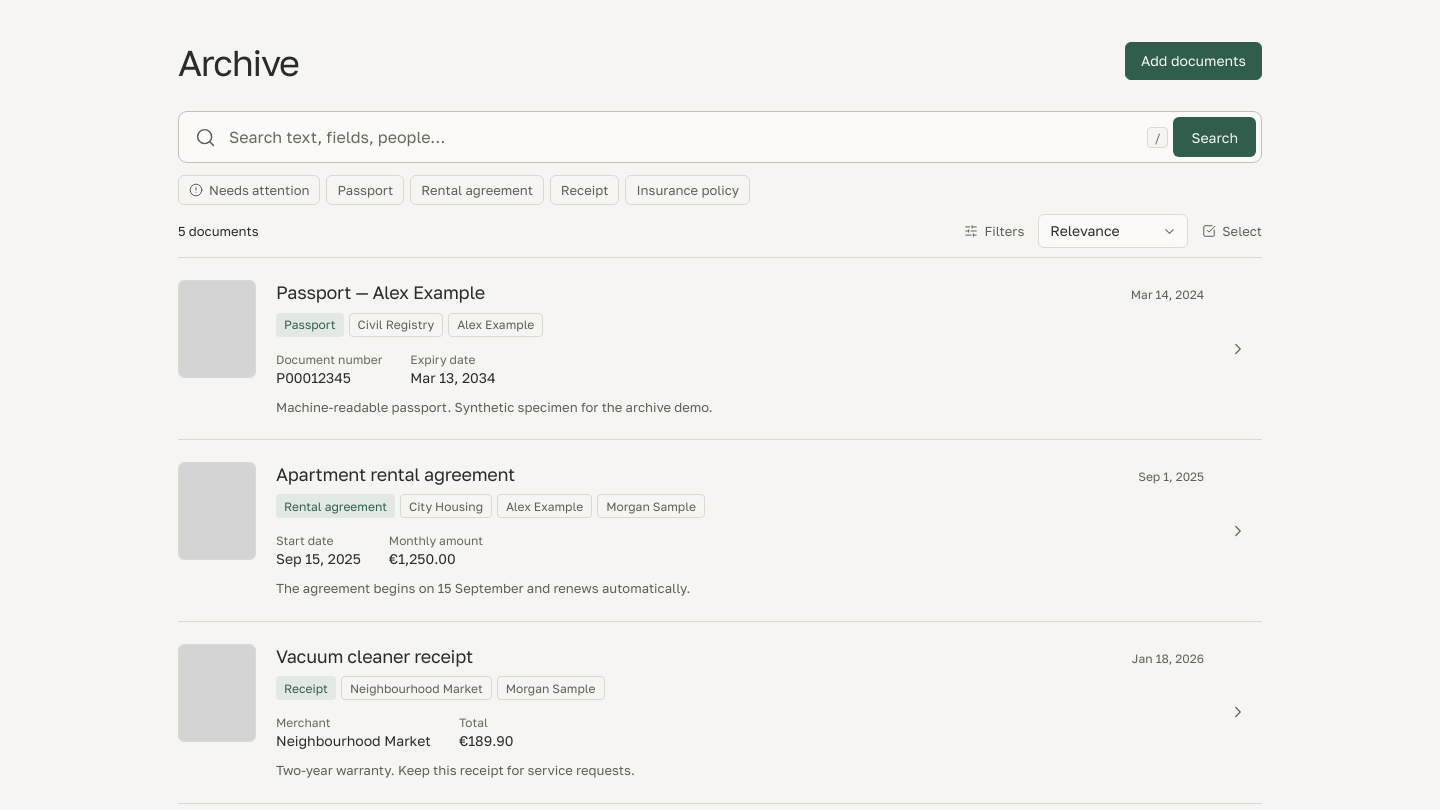
Test: ArchivePage selection › leaves selection mode and hides the toolbar once trashing empties the archive
This screenshot has width=1440, height=810.
Click the button "Select" at (1232, 231), box [1202, 215, 1262, 247]
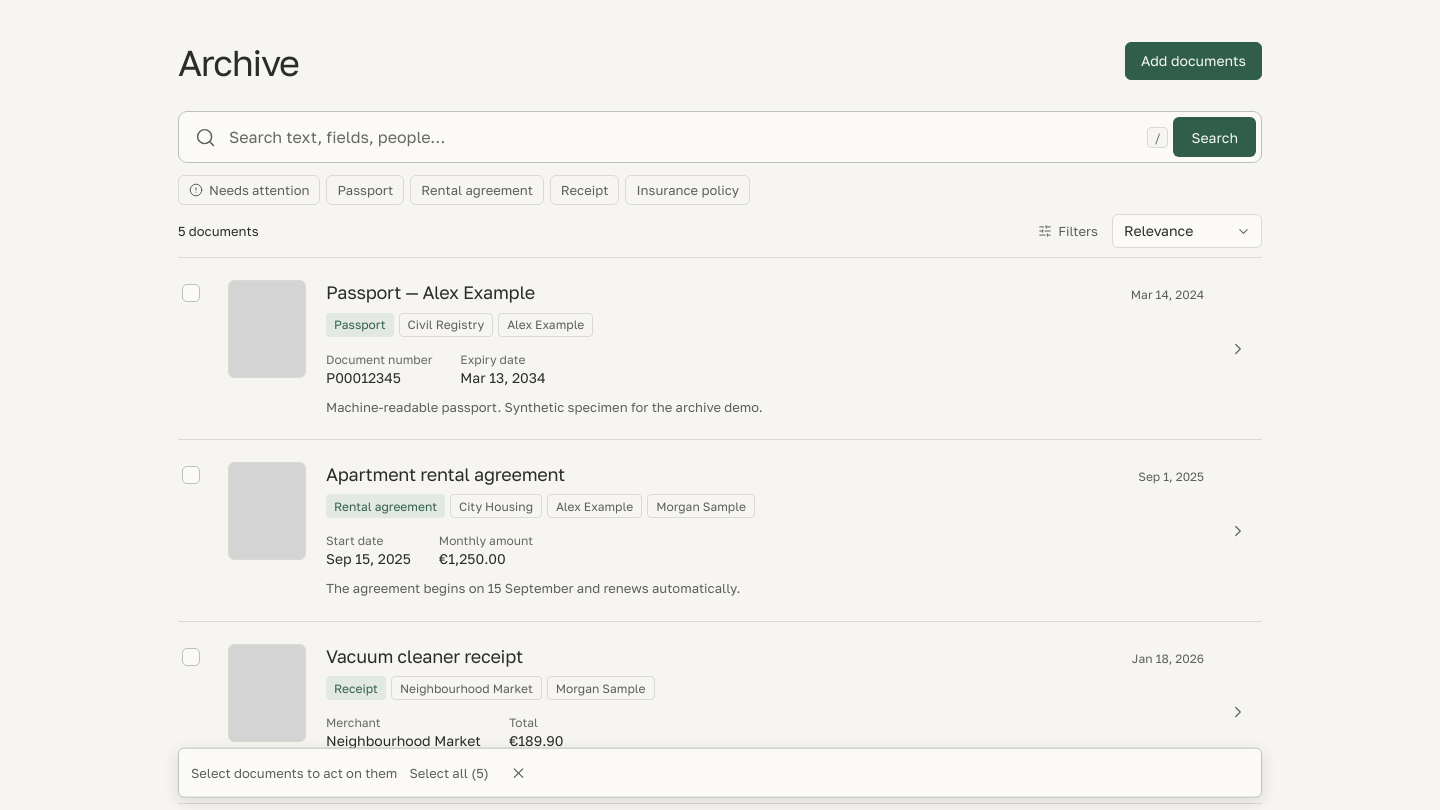
Click the button "Select all (5)" at (449, 773), box [409, 757, 489, 789]
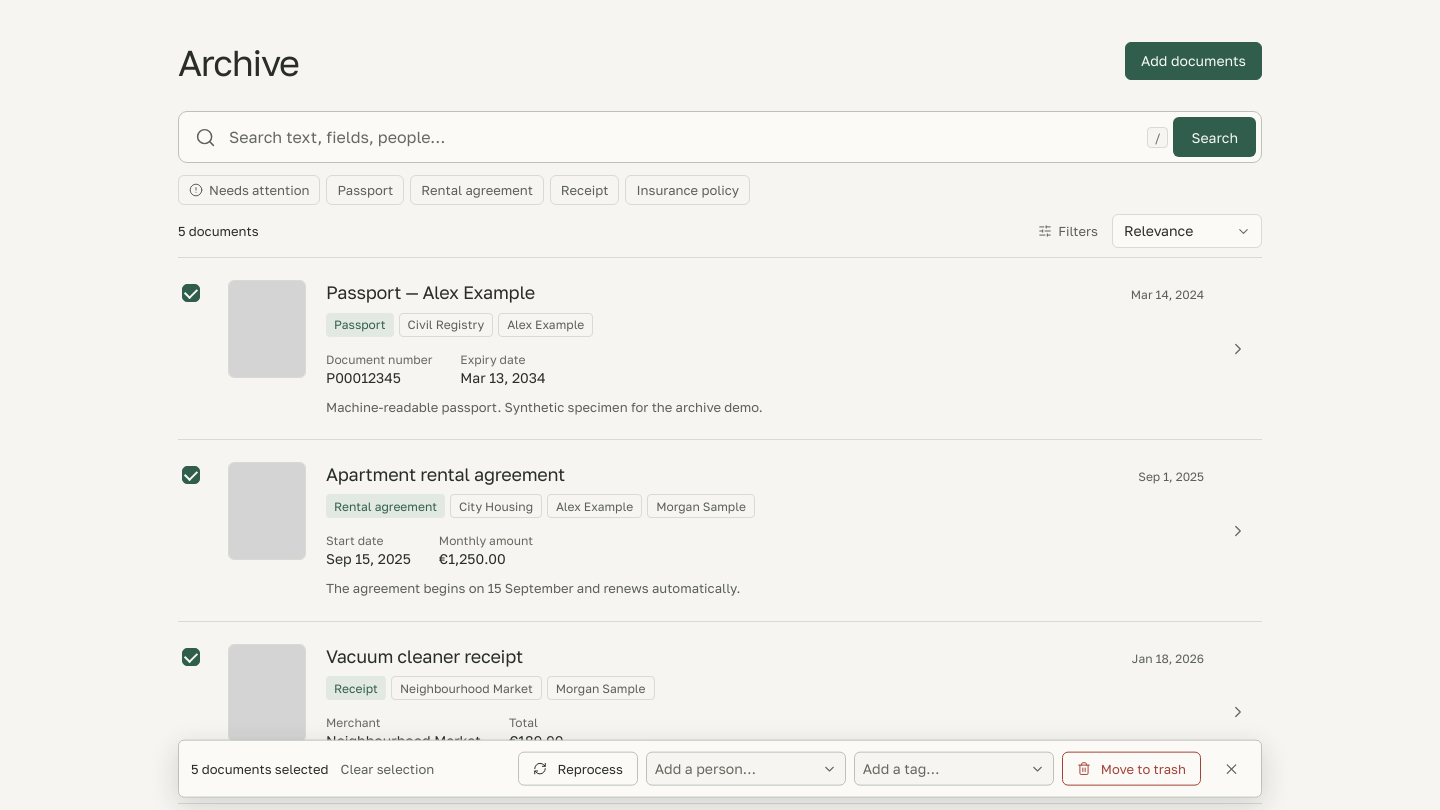
Click the button "Move to trash" at (1131, 769), box [1062, 752, 1201, 786]
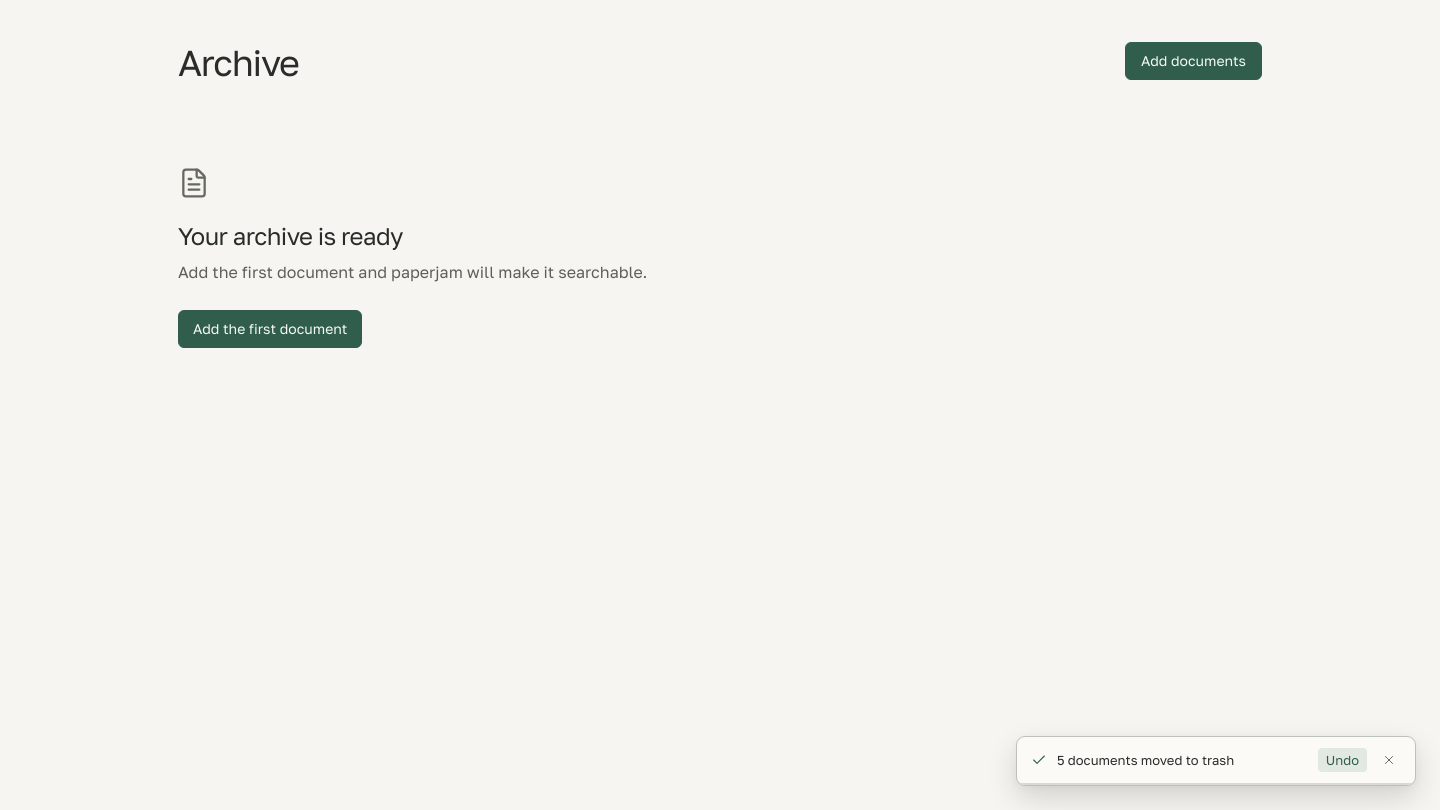
expect the form with class "search-form" is gone: met
expect the element with class "results-meta" is gone: met
expect the text "Your archive is ready" is shown: met, box [178, 221, 403, 250]
